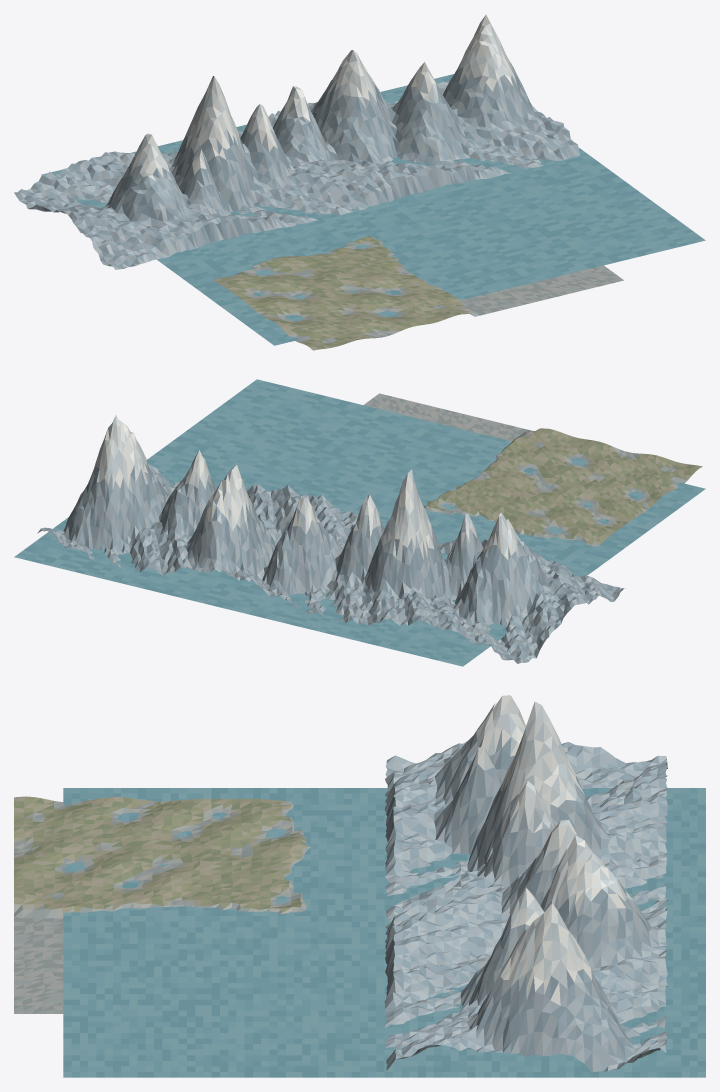
The model's file is BaseLakesideLandscape.fbx.
3 renders of one model, top to bottom at view 1: azimuth 30°, elevation 25°; view 2: azimuth 150°, elevation 25°; view 3: azimuth 270°, elevation 25°, orthographic. The views are drawn at different scales.
Parts seen in each view (by area): view 1: DistantMountainRidge, LakeSurface, LakesideTerrain; view 2: DistantMountainRidge, LakeSurface, LakesideTerrain; view 3: LakeSurface, DistantMountainRidge, LakesideTerrain.
Part boxes in pixels (x1,y1,x2,y2): DistantMountainRidge: [14, 14, 579, 269]; LakeSurface: [41, 74, 705, 345]; LakesideTerrain: [212, 236, 623, 350]; DistantMountainRidge: [37, 415, 624, 663]; LakeSurface: [14, 379, 705, 666]; LakesideTerrain: [363, 393, 702, 546]; LakeSurface: [63, 788, 705, 1077]; DistantMountainRidge: [384, 695, 667, 1072]; LakesideTerrain: [14, 796, 310, 1013].
Bounding box in the file's own units: 45695 × 11233 × 42000.
